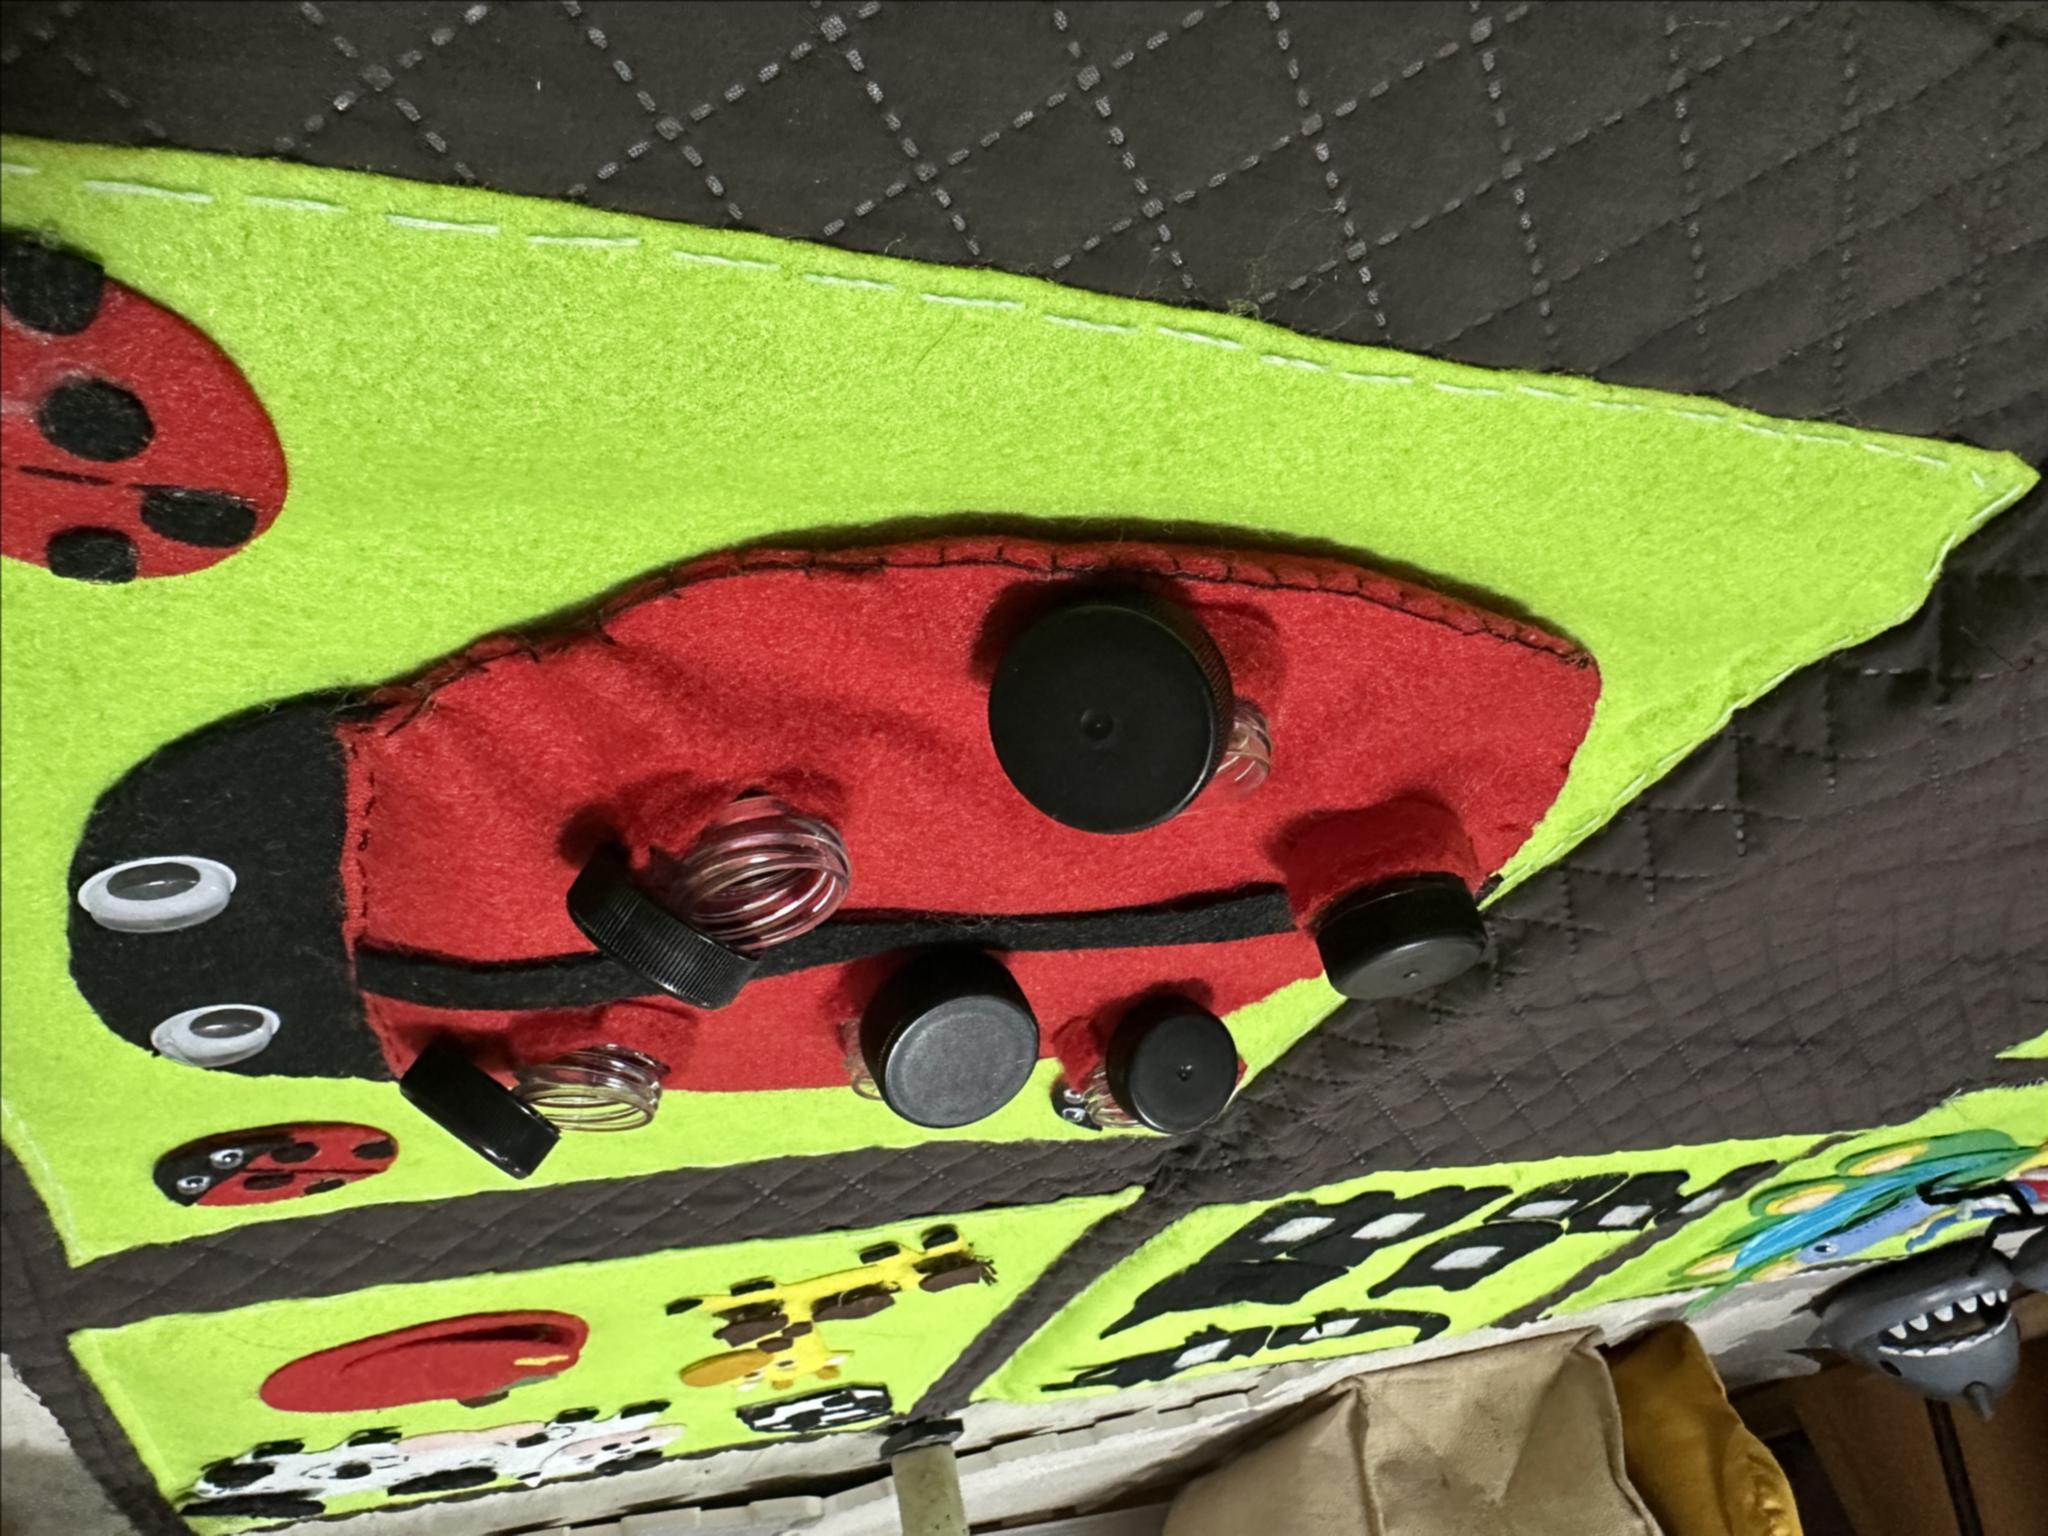cap_ng: (972, 565, 1300, 847), (561, 773, 861, 1016), (389, 1002, 693, 1179), (826, 933, 1050, 1139), (1056, 981, 1238, 1144)
cap_ok: (1280, 784, 1500, 1020)
